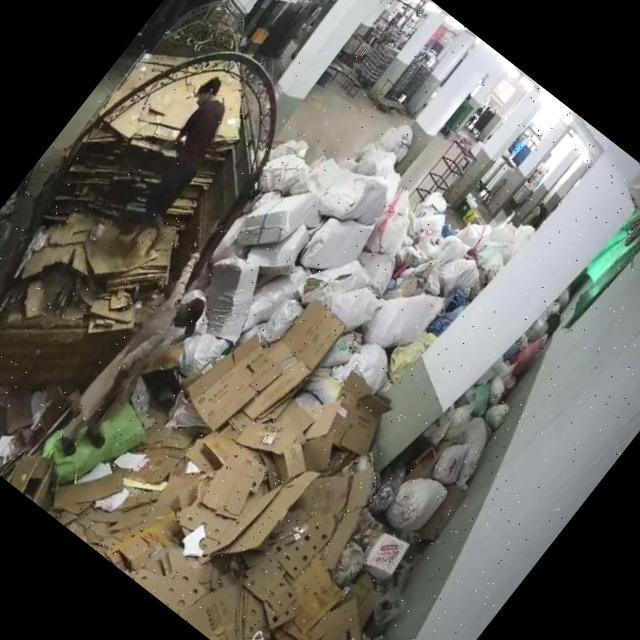person: (49, 277, 209, 468), (104, 74, 260, 248)
